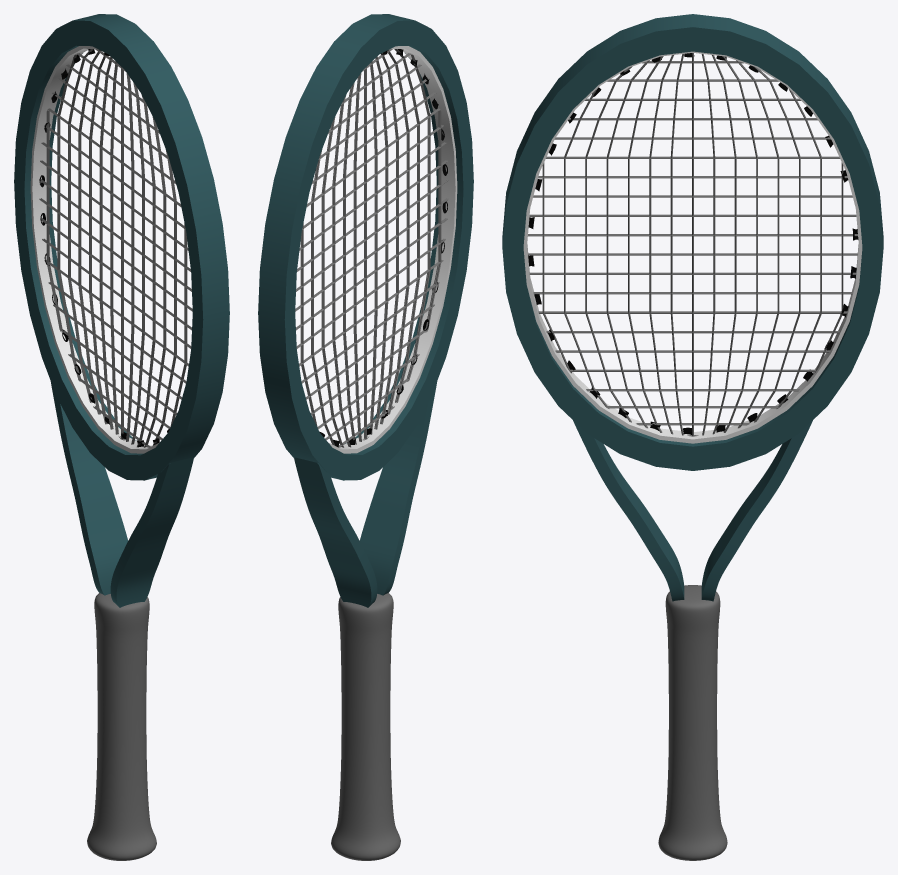
The model's file is Tennis_Racket.fbx.
The picture shows the model from 3 angles, left to right: view 1: azimuth 30°, elevation 25°; view 2: azimuth 150°, elevation 25°; view 3: azimuth 270°, elevation 25°; orthographic projection.
Parts seen in each view (by area): view 1: racket_OuterRim, racket_Wireframe, racket_Handle, racket_Rim_Handle_Connect, racket_InnerRim, racket_Spoke_Sockets; view 2: racket_OuterRim, racket_Wireframe, racket_Handle, racket_Rim_Handle_Connect, racket_InnerRim, racket_Spoke_Sockets; view 3: racket_OuterRim, racket_Wireframe, racket_Handle, racket_Rim_Handle_Connect, racket_InnerRim, racket_Spoke_Sockets.
Part boxes in pixels (box(x1,y1,x2,y2)): racket_OuterRim: box(14, 14, 229, 480); racket_Wireframe: box(39, 49, 192, 447); racket_Handle: box(87, 593, 156, 860); racket_Rim_Handle_Connect: box(50, 381, 193, 607); racket_InnerRim: box(30, 46, 159, 453); racket_Spoke_Sockets: box(39, 49, 169, 447); racket_OuterRim: box(258, 14, 473, 480); racket_Wireframe: box(295, 49, 448, 447); racket_Handle: box(331, 593, 400, 860); racket_Rim_Handle_Connect: box(294, 381, 437, 607); racket_InnerRim: box(328, 46, 457, 453); racket_Spoke_Sockets: box(319, 49, 447, 447); racket_OuterRim: box(502, 14, 883, 470); racket_Wireframe: box(528, 53, 857, 436); racket_Handle: box(658, 585, 727, 860); racket_Rim_Handle_Connect: box(573, 420, 812, 601); racket_InnerRim: box(523, 51, 862, 443); racket_Spoke_Sockets: box(528, 53, 858, 434).
Bounding box in the file's own units: 29.85 × 396 × 165.
